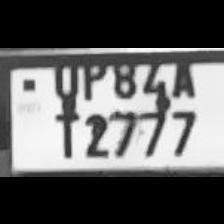2: (80, 106, 110, 158)
4: (136, 48, 166, 94)
7: (165, 101, 197, 157), (136, 101, 167, 157), (106, 106, 138, 156)
8: (106, 50, 138, 98)
A: (165, 49, 199, 99)
P: (78, 50, 106, 100)
T: (48, 97, 80, 156)
U: (46, 49, 82, 97)
